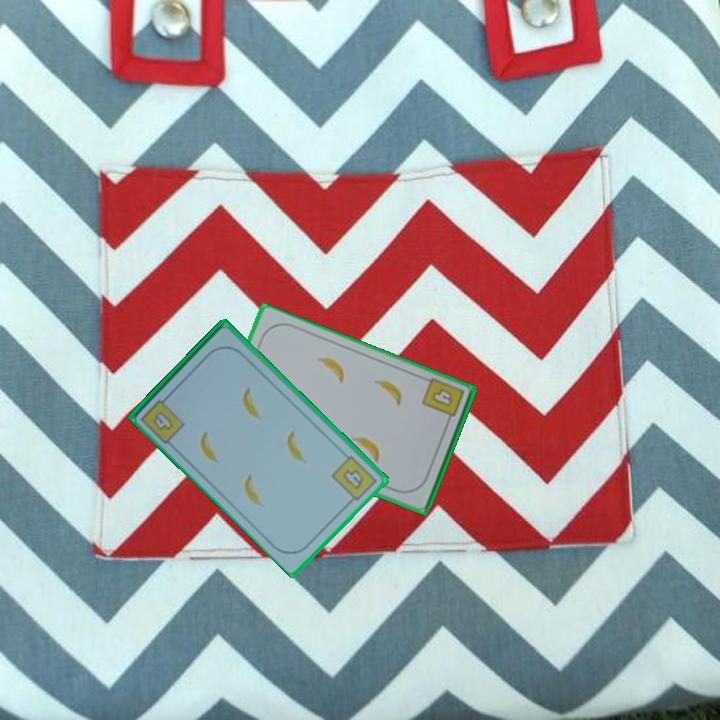4b: (328, 451, 380, 507), (137, 391, 188, 446), (418, 374, 467, 427)
